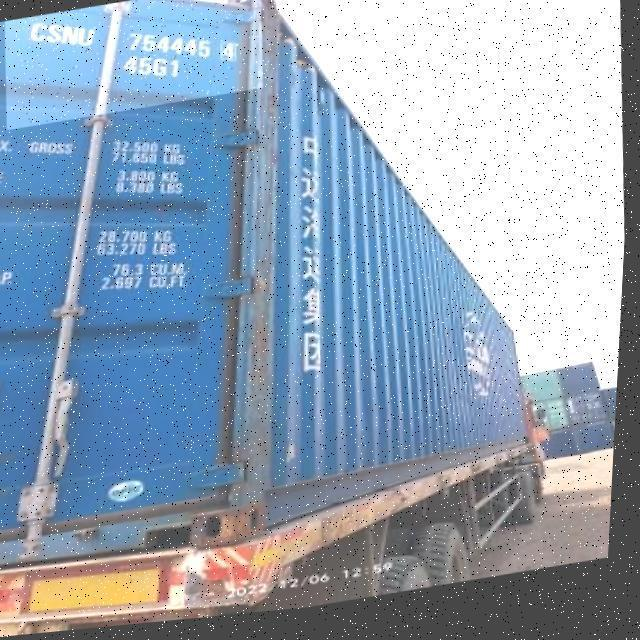container_number_h: (0, 0, 268, 131)
